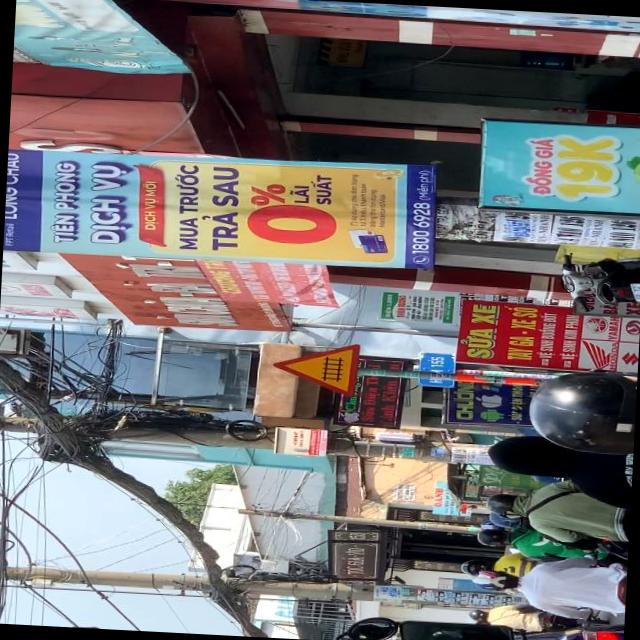W-210: (270, 338, 362, 394)
